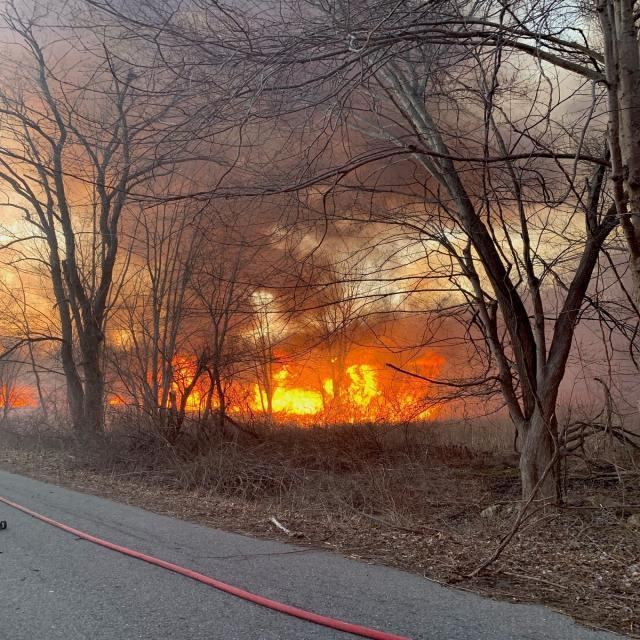Fire: (107, 346, 457, 432)
Smoke: (3, 0, 564, 344)
